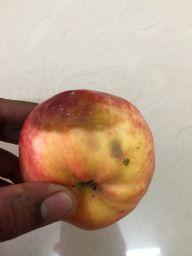Apple Overripe: (19, 89, 154, 229)
